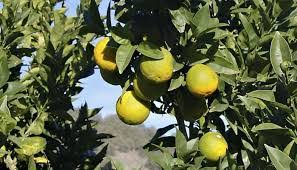orange: (136, 47, 175, 85), (113, 87, 151, 124), (92, 38, 126, 73), (185, 62, 219, 96), (195, 128, 231, 160)
